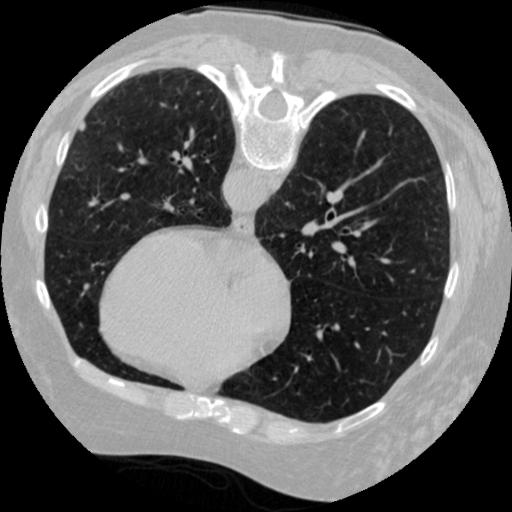nodule: (78, 121, 91, 134)
